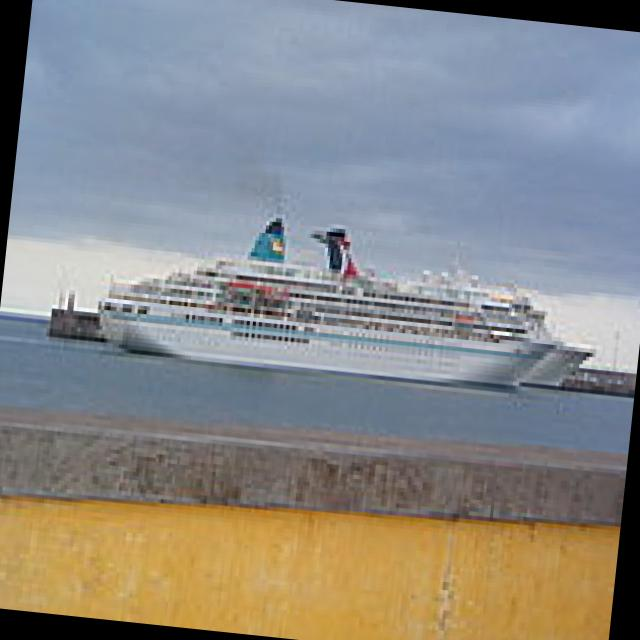boat: (91, 245, 568, 402)
